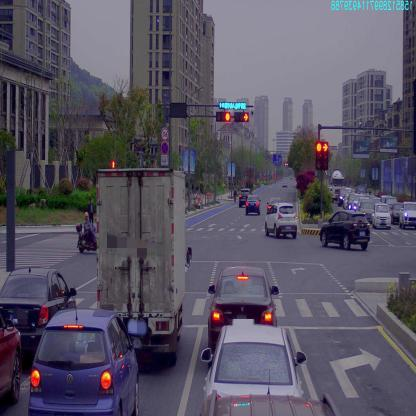traffic-light: (218, 100, 246, 108), (235, 112, 250, 122), (217, 112, 229, 122)
